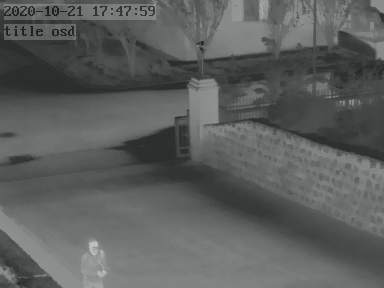person: (80, 238, 108, 288)
